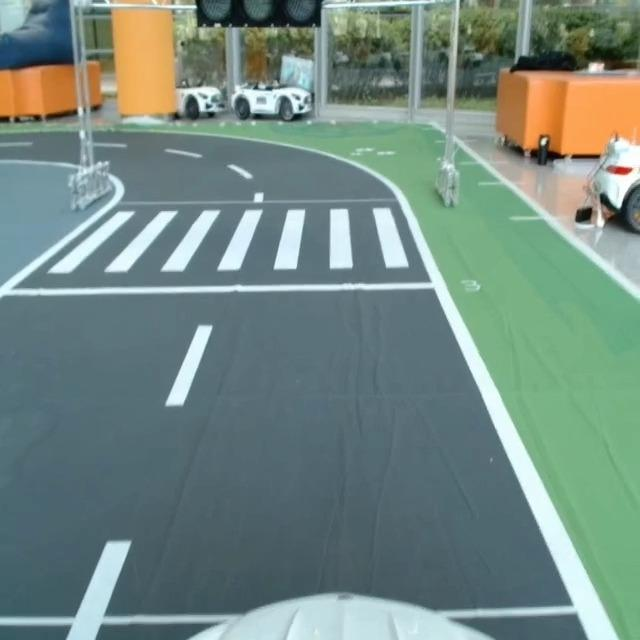traffic-light: (189, 0, 330, 31)
